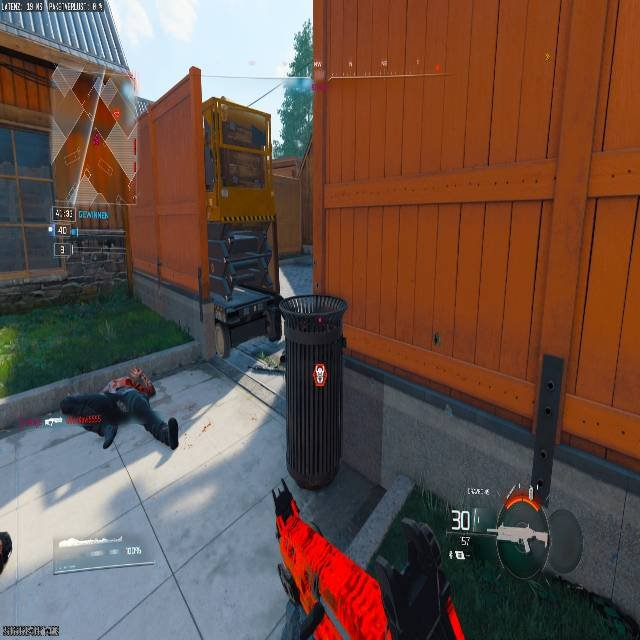head: (62, 393, 114, 433), (127, 367, 156, 397)
player: (58, 368, 181, 456)
